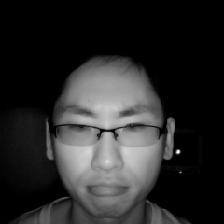sad: (30, 41, 189, 221)
